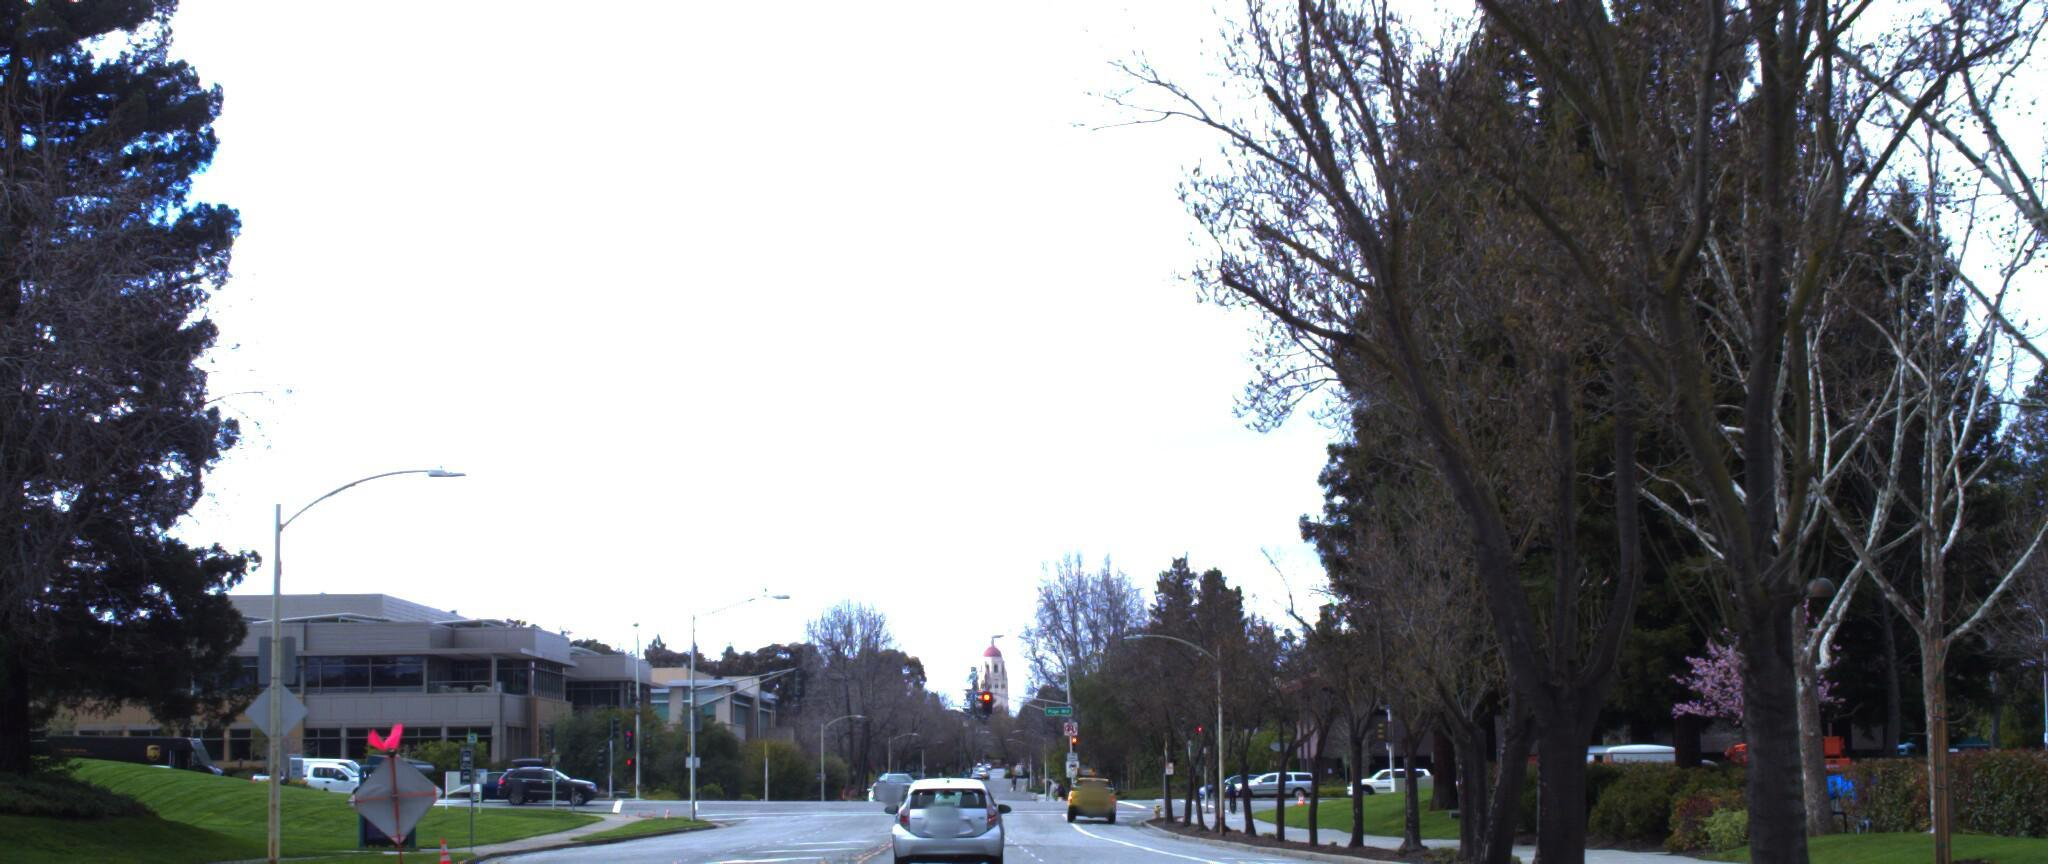car: (882, 761, 1008, 864)
